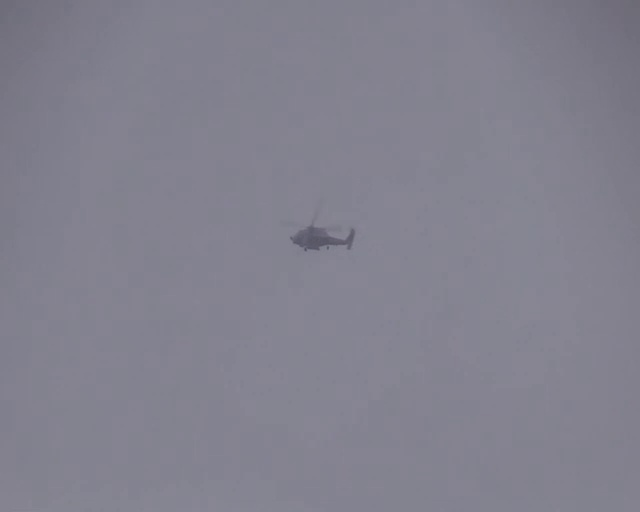HELICOPTER: (283, 197, 356, 252)
